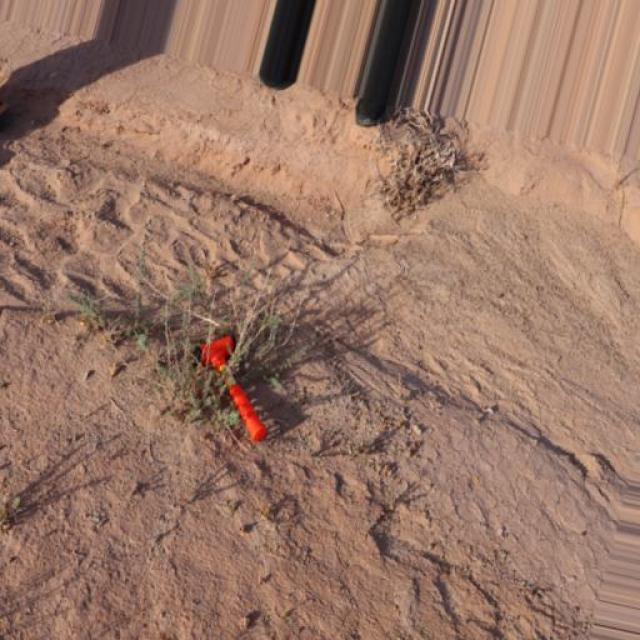mallet: (196, 332, 268, 442)
